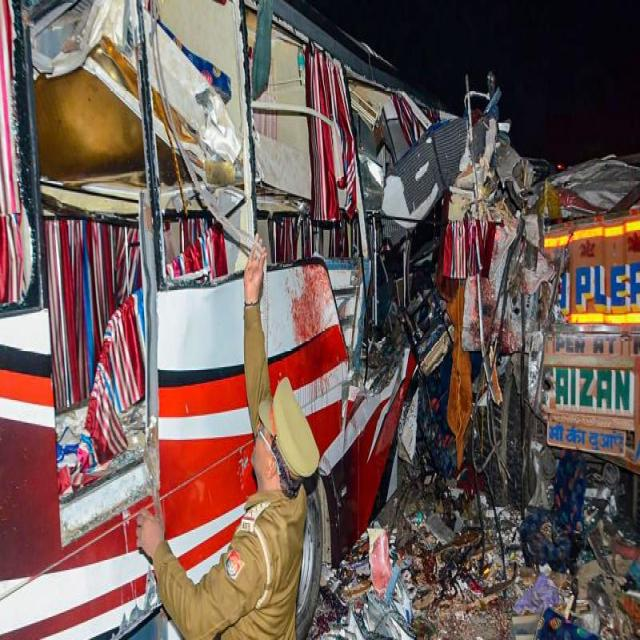accident: (0, 0, 466, 635)
